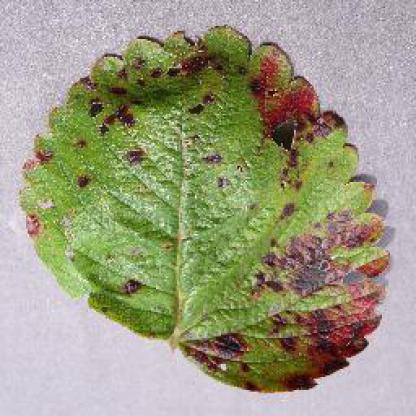leaf scorch: (15, 10, 403, 400)
